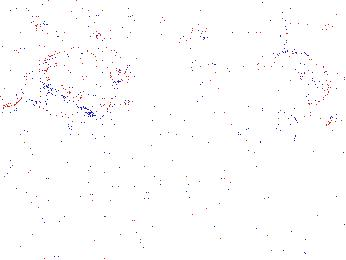moon jellyfish: (207, 68, 311, 139), (38, 48, 114, 116), (251, 50, 332, 107), (90, 47, 153, 104), (189, 56, 251, 93), (1, 34, 28, 107)
